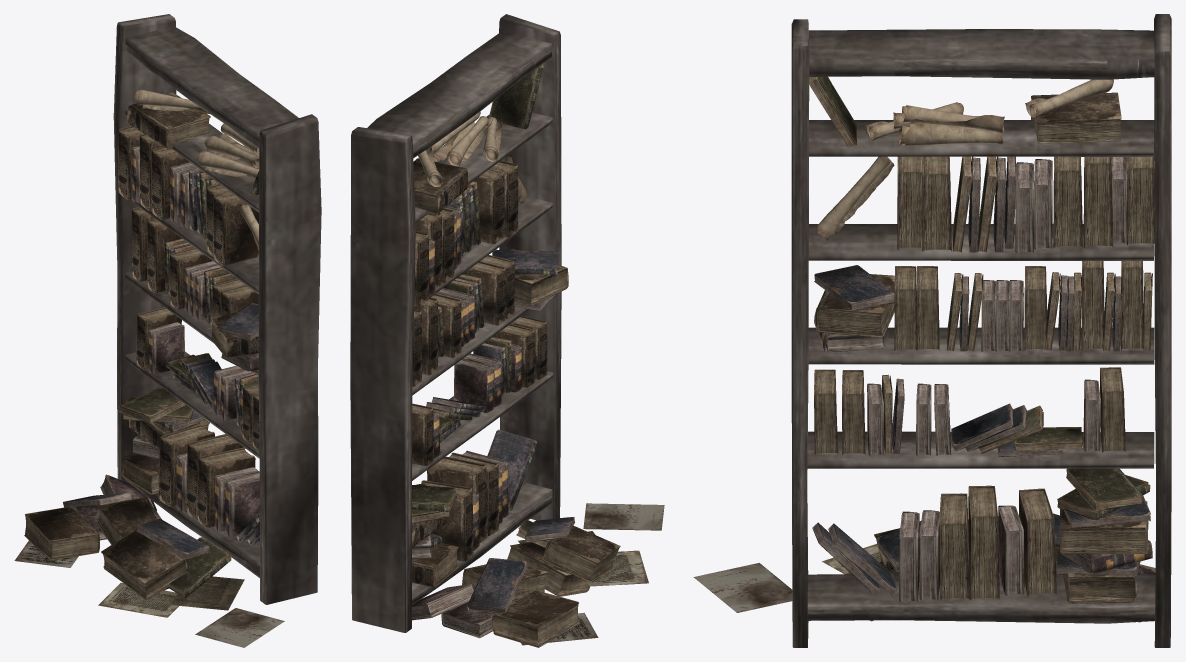
Rendered from AEG004_689-transformed.glb.
3 views of the same model, side by side, from view 1: azimuth 30°, elevation 25°; view 2: azimuth 150°, elevation 25°; view 3: azimuth 270°, elevation 25° (orthographic). The views are drawn at different scales.
Parts seen in each view (by area): view 1: default; view 2: default; view 3: default.
Part boxes in pixels (<box>): default: <box>14,14,321,647</box>; default: <box>350,14,664,647</box>; default: <box>693,14,1171,647</box>.
Size of the model in its own units: 1.38 by 3.21 by 2.25.
4 materials, 4 textured.
